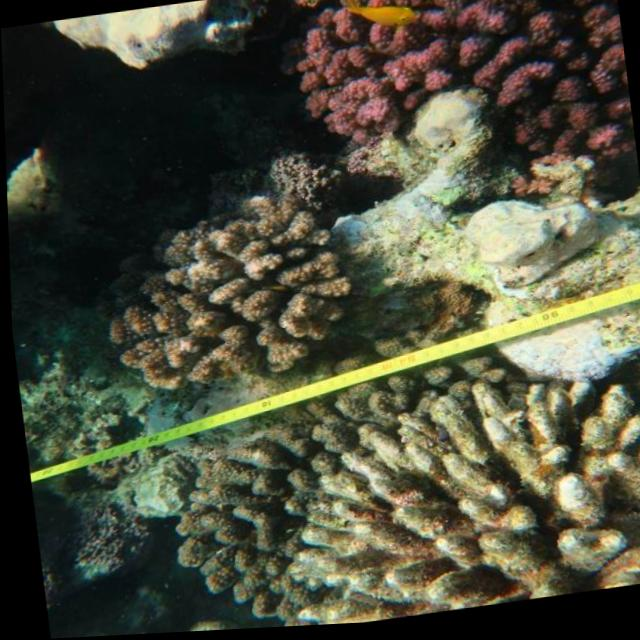Dead Coral: (136, 346, 640, 635)
Healthy Coral: (275, 0, 633, 188), (86, 184, 378, 399)
